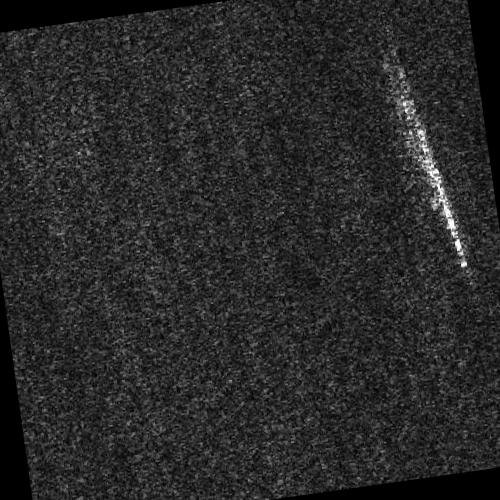ship: (403, 102, 468, 267)
